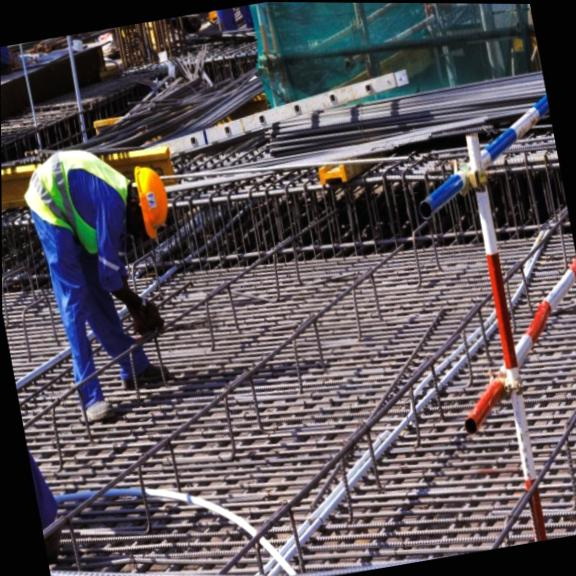safety_vest: (14, 143, 142, 272)
